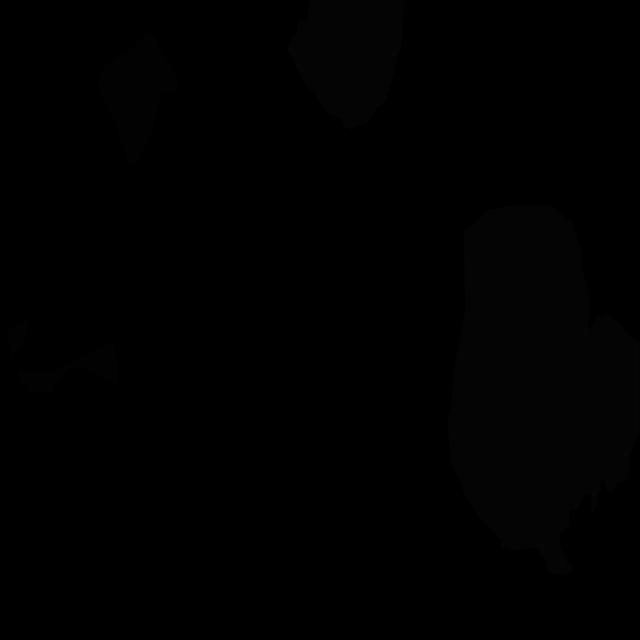cardboard: (97, 32, 179, 167), (18, 343, 119, 394), (6, 321, 29, 362)
soft_plastic: (447, 205, 612, 576), (288, 0, 404, 130), (565, 314, 640, 511), (581, 474, 603, 515)
